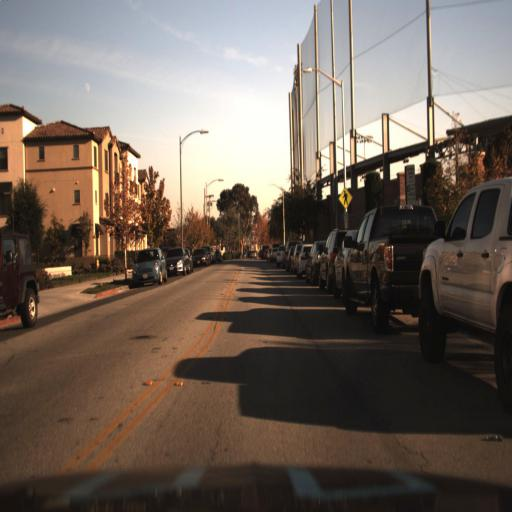car: (418, 176, 511, 411), (338, 202, 424, 345), (0, 230, 40, 330), (127, 242, 167, 294), (317, 227, 337, 300), (334, 230, 350, 308), (166, 244, 186, 280), (306, 242, 319, 288)
